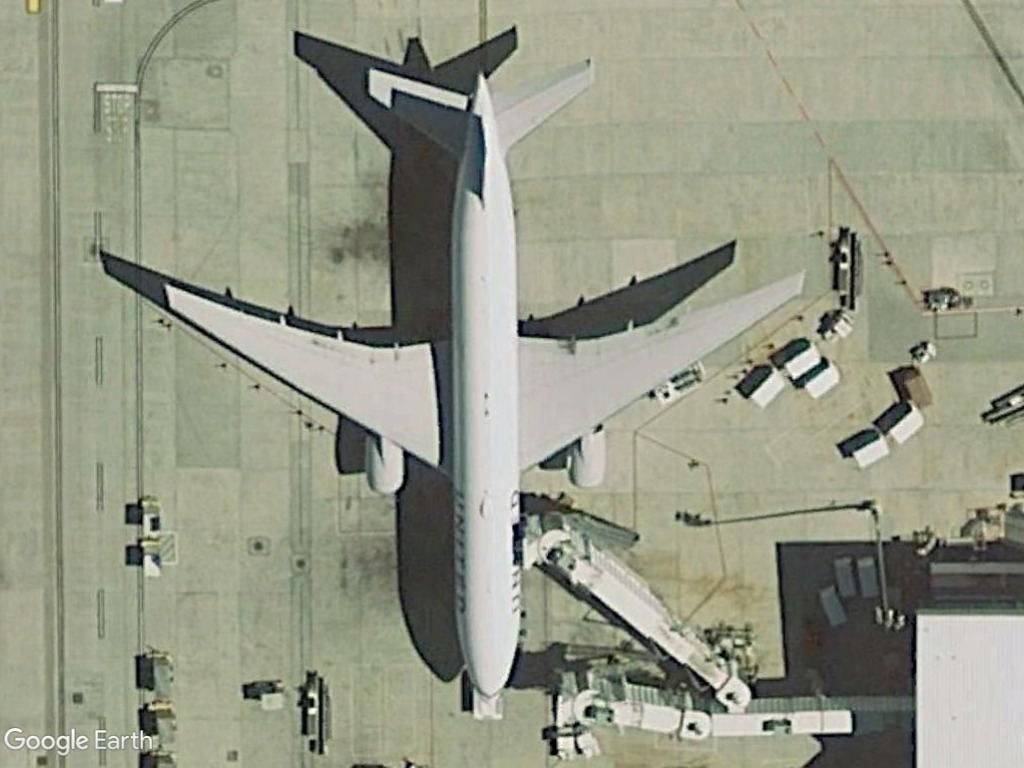airliner: (144, 46, 814, 720)
